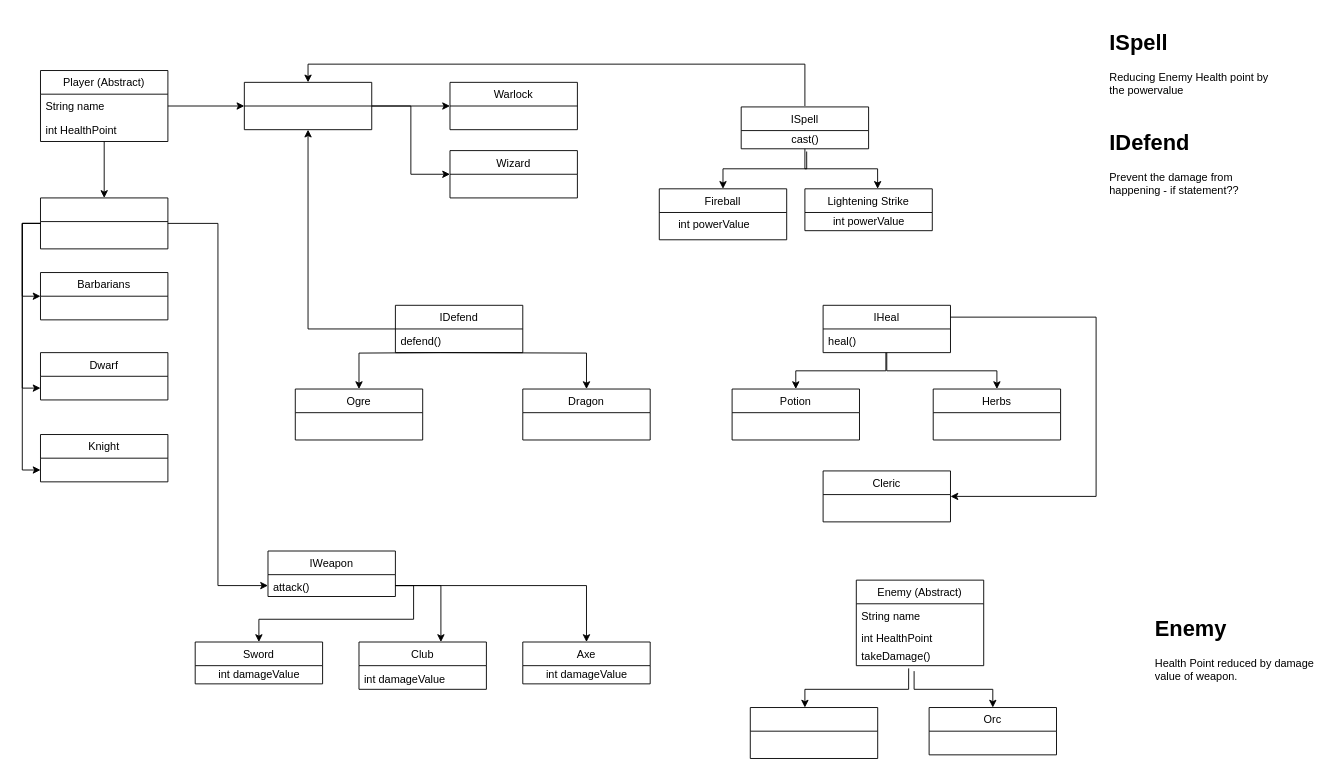
Some shapes in this 1340 by 774 pixel diagram are drawn without their labels. Each missing label, with the centre of its shape:
"Fighter" belongs at point (104, 223).
"Mage" belongs at point (307, 105).
"Troll" belongs at point (813, 732).
